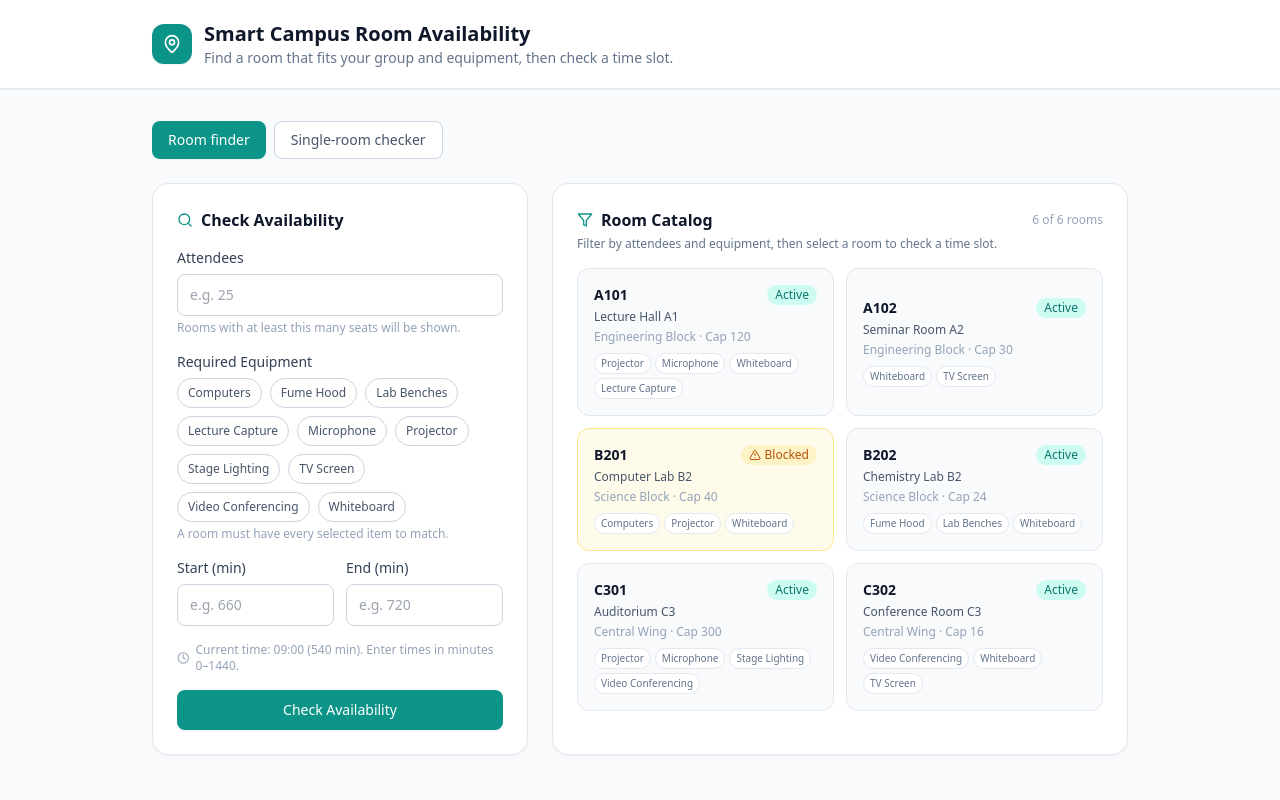
it: App room catalog and availability UI › D3: 31 attendees hides A102 (insufficient capacity)
The width and height of the screenshot is (1280, 800).
Type "31" into the number field labelled "Attendees" at (340, 295), box [177,274,503,316]
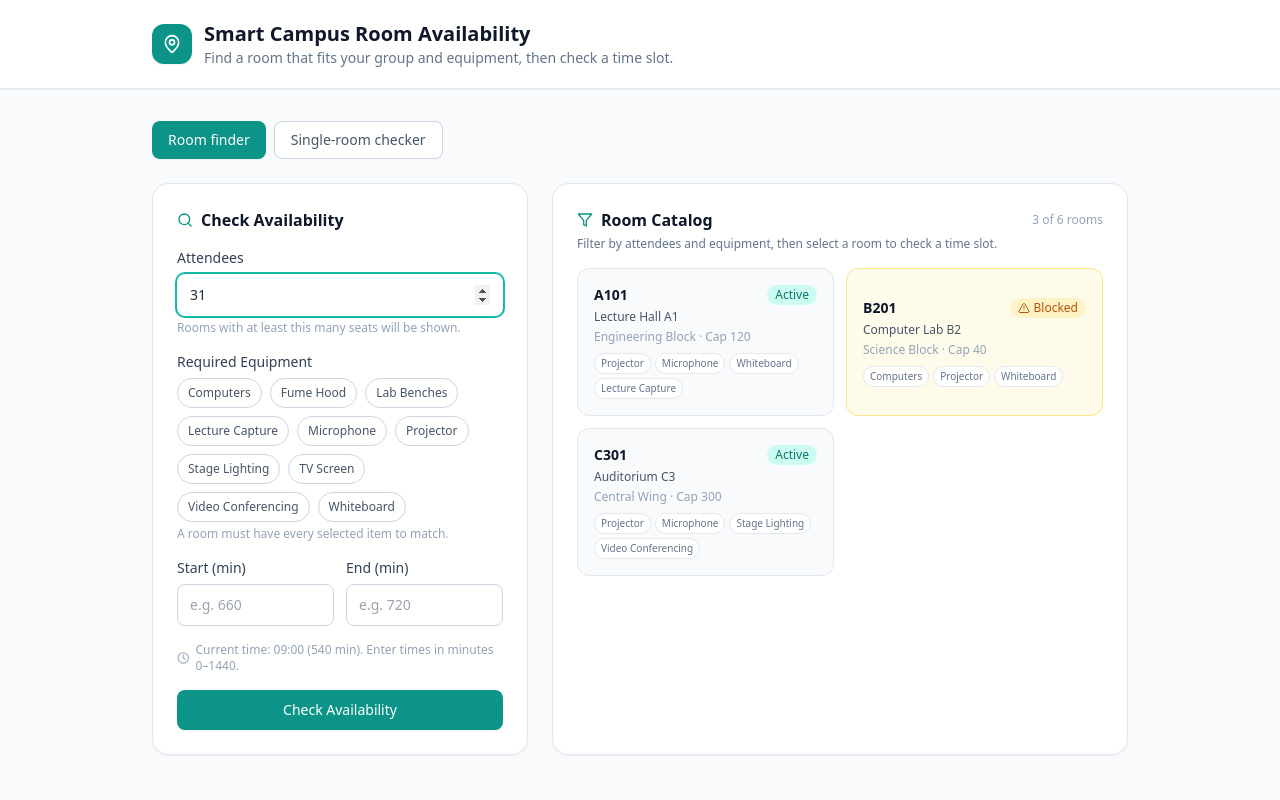
Check: the button "A102" no longer shows "A102"
